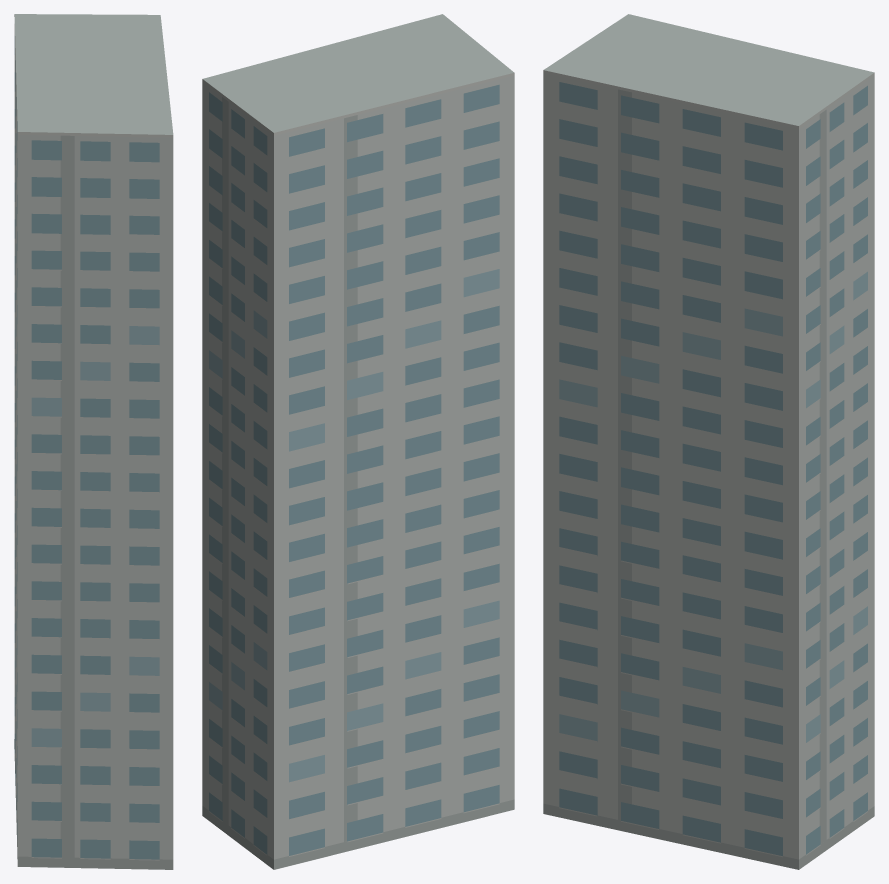
File: residential-1848167d-4345-463d-924f-0669f2b43d19.glb
3 renders of one model, left to right at view 1: azimuth 30°, elevation 25°; view 2: azimuth 150°, elevation 25°; view 3: azimuth 270°, elevation 25°, orthographic.
Visible parts, largest first — view 1: residential-1848167d-4345-463d-924f-0669f2b43d19.tmp; view 2: residential-1848167d-4345-463d-924f-0669f2b43d19.tmp; view 3: residential-1848167d-4345-463d-924f-0669f2b43d19.tmp.
Part boxes in pixels (x1,y1,x2,y2): residential-1848167d-4345-463d-924f-0669f2b43d19.tmp: (14,14,173,869); residential-1848167d-4345-463d-924f-0669f2b43d19.tmp: (202,14,514,869); residential-1848167d-4345-463d-924f-0669f2b43d19.tmp: (543,14,874,869).
Size of the model in its own units: 20.05 by 62 by 25.03.
